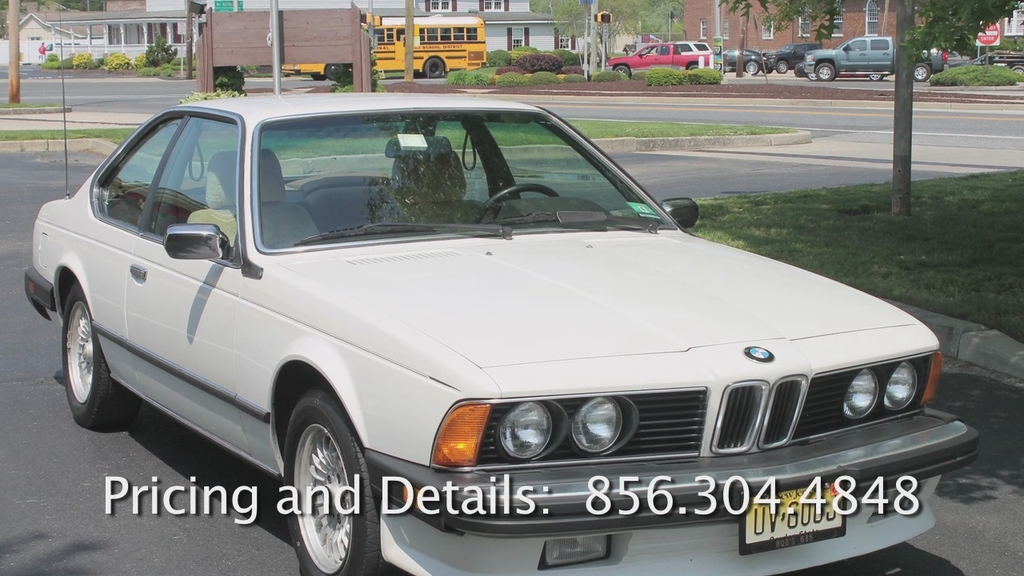Tree: (717, 0, 1024, 218)
